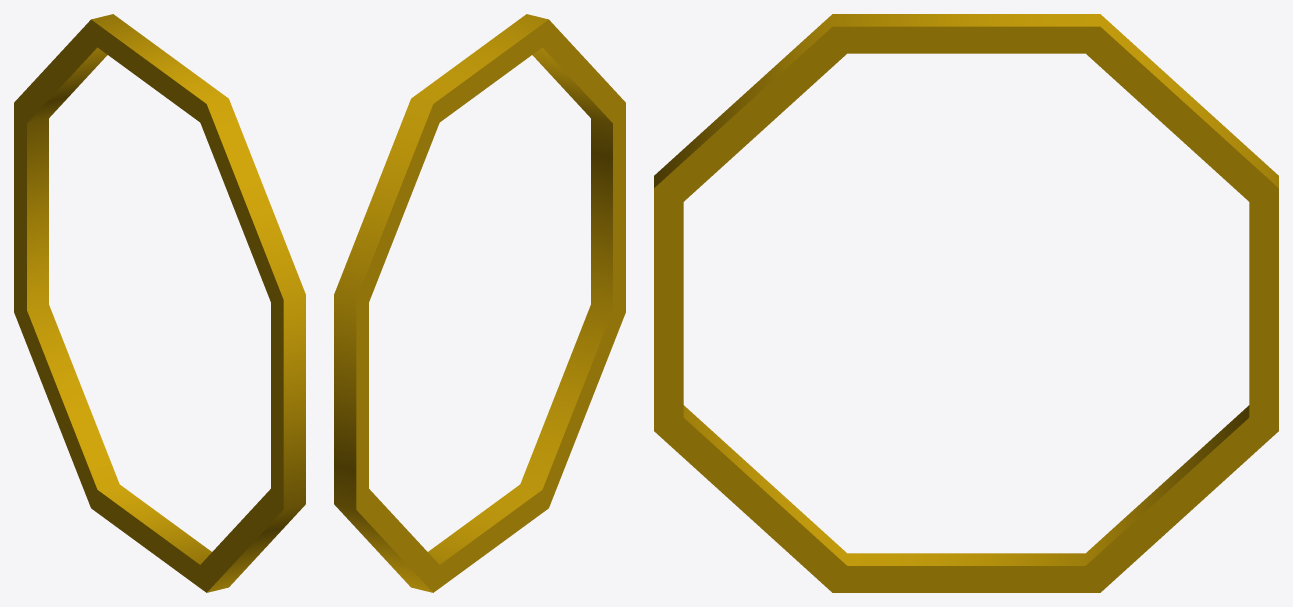
The model's file is SubGoal_Rev2.fbx.
The picture shows the model from 3 angles, left to right: view 1: azimuth 30°, elevation 25°; view 2: azimuth 150°, elevation 25°; view 3: azimuth 270°, elevation 25°; orthographic projection. The views are drawn at different scales.
Visible parts, largest first — view 1: Cube_4; view 2: Cube_4; view 3: Cube_4.
Boxes of the visible parts, x1,y1,x2,y2 form: Cube_4: [14, 14, 305, 592]; Cube_4: [334, 14, 625, 592]; Cube_4: [654, 14, 1278, 592].
Size of the model in its own units: 10 by 210 by 210.
